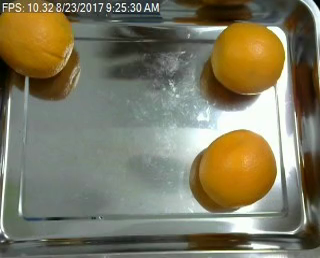Orange: (197, 130, 278, 209), (211, 20, 284, 93), (1, 12, 75, 77)
